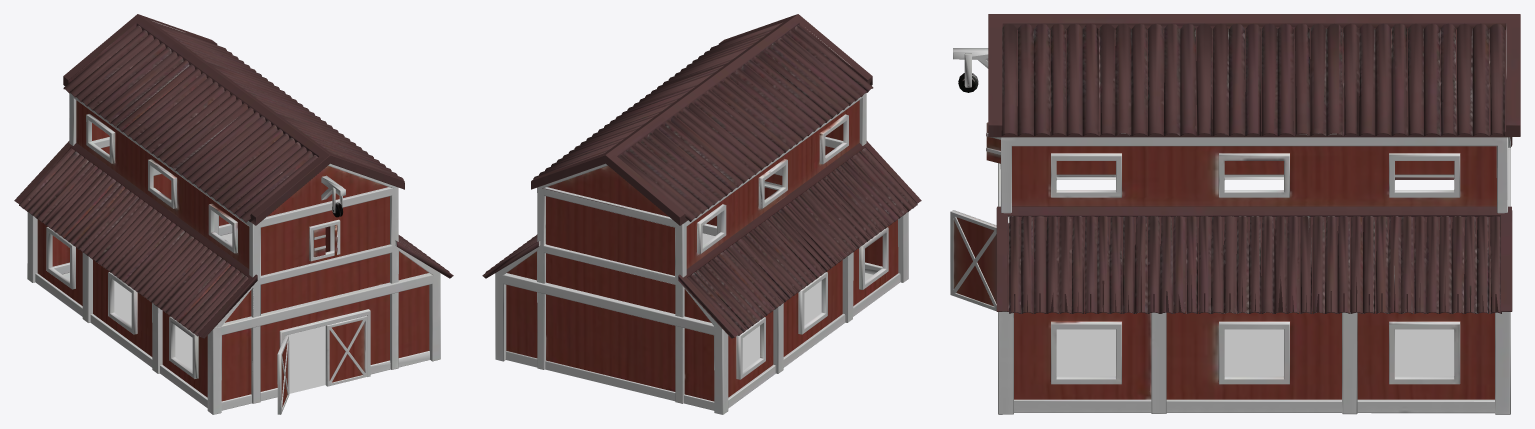
Rendered from barn.glb.
3 views of the same model, side by side, from view 1: azimuth 30°, elevation 25°; view 2: azimuth 150°, elevation 25°; view 3: azimuth 270°, elevation 25° (orthographic). The views are drawn at different scales.
Parts seen in each view (by area): view 1: Barn_001; view 2: Barn_001; view 3: Barn_001.
Part boxes in pixels (bbox=[...]): Barn_001: bbox=[14, 14, 453, 414]; Barn_001: bbox=[482, 14, 921, 414]; Barn_001: bbox=[950, 14, 1520, 414].
Bounding box in the file's own units: 3.2 × 2.82 × 4.5.
1 material, 1 textured.
